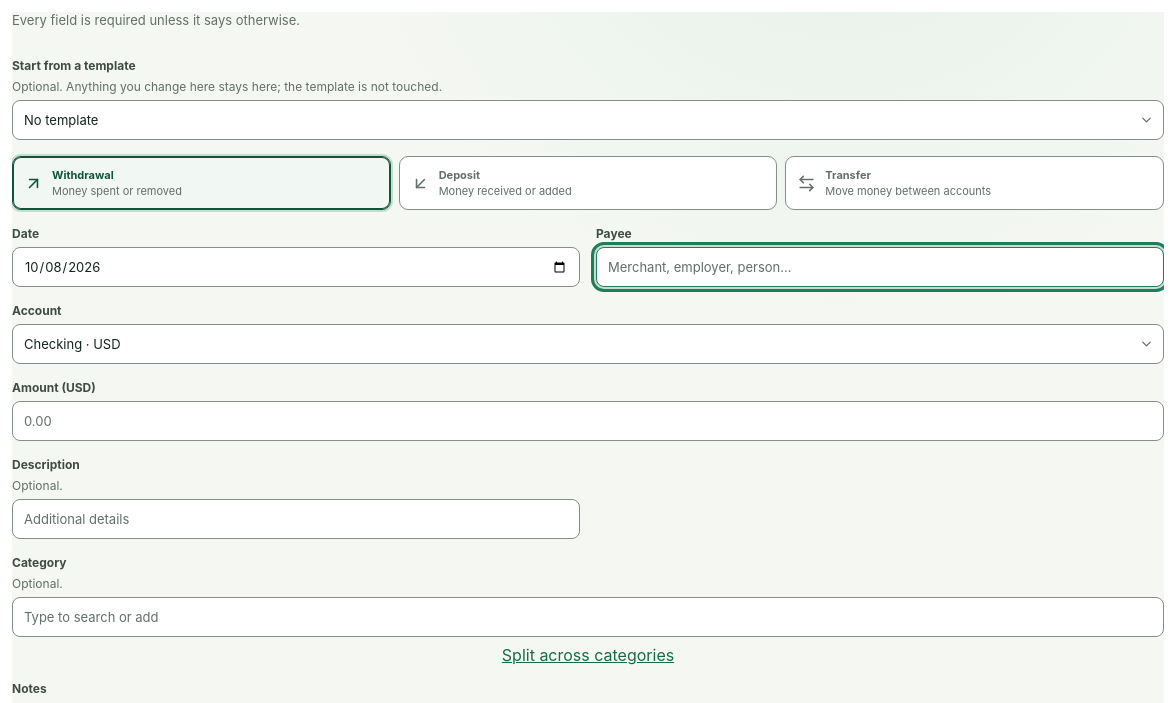
Test: starting a transaction from a template › says so when a split leg's category is no longer available
The image size is (1176, 703).
Select "Weekly shop" in the dropdown labelled "Start from a template": {"x": 588, "y": 120} [12,100,1164,140]
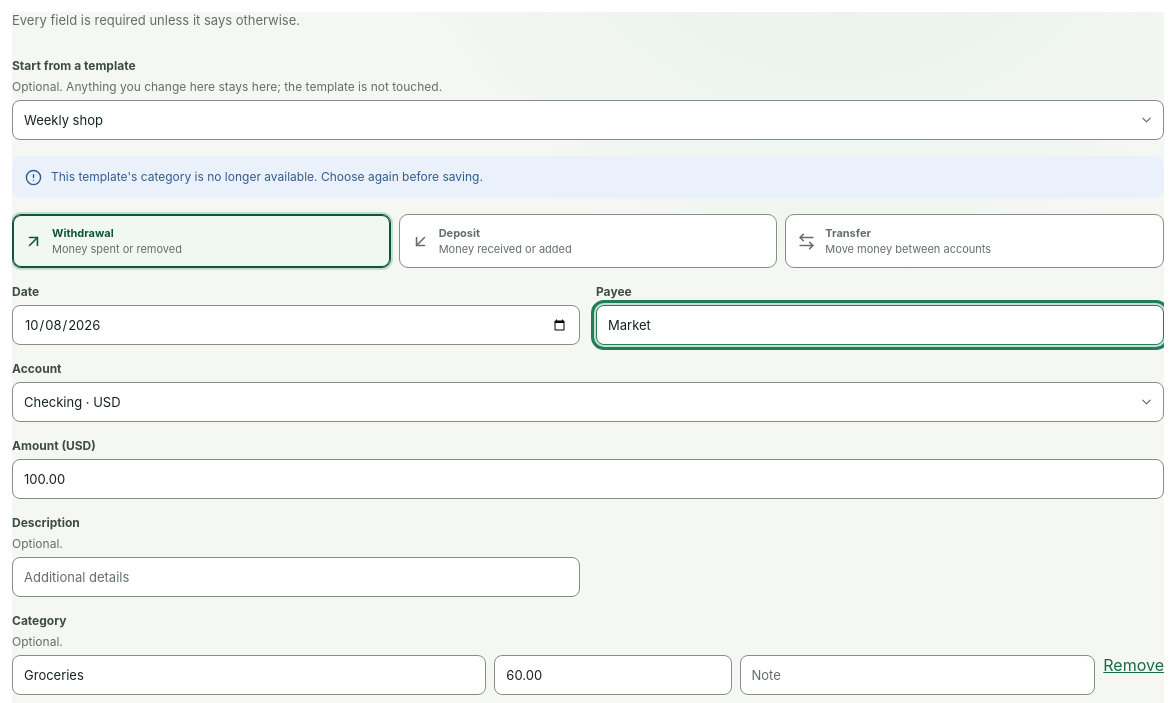
Check: the text "category is no longer available" is shown, box [51,169,483,184]
